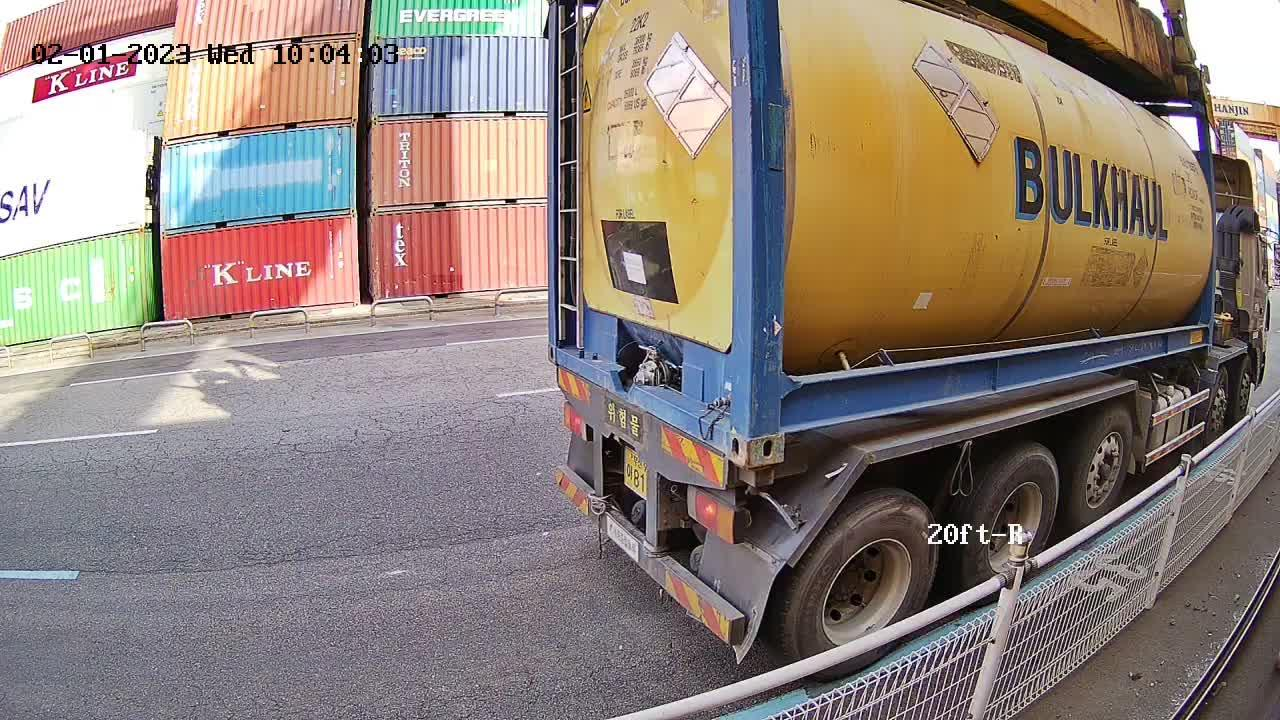Chassis: (556, 368, 733, 489)
Cone: (735, 466, 778, 501)
Hole_L: (749, 396, 813, 467), (546, 327, 573, 369)
Hole_R: (703, 397, 748, 466)
Tire: (787, 496, 936, 680), (964, 445, 1058, 582), (1071, 413, 1134, 521)
